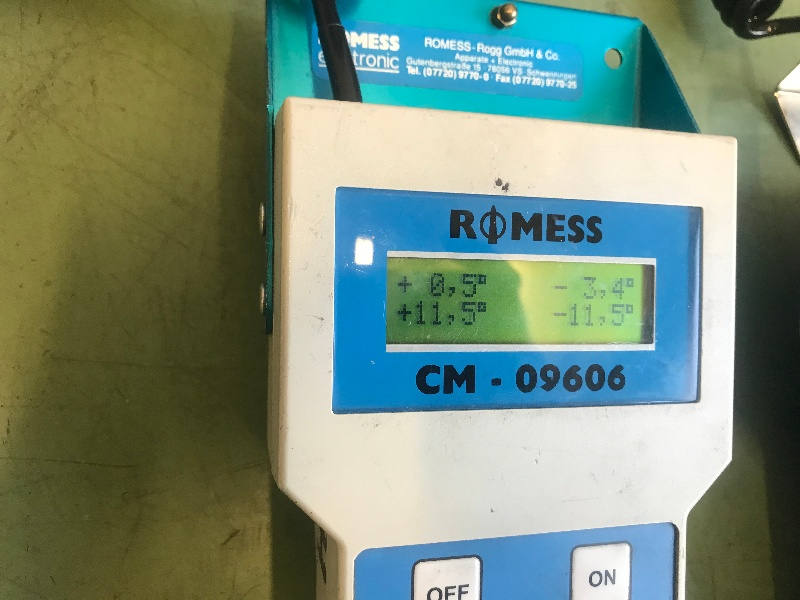ins_two: (334, 189, 704, 409)
